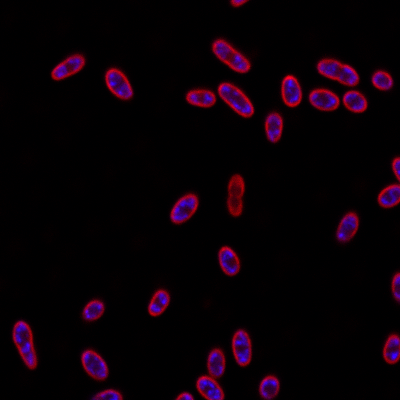MP265: (209, 38, 251, 74), (11, 319, 39, 371), (218, 81, 255, 119), (315, 57, 361, 87), (49, 52, 86, 81), (168, 192, 199, 224), (104, 67, 133, 101), (80, 348, 110, 379), (307, 87, 341, 113), (216, 245, 241, 278), (231, 329, 252, 367), (280, 74, 303, 108), (147, 287, 171, 317), (206, 346, 227, 380), (196, 374, 224, 399), (342, 89, 368, 114), (185, 88, 216, 108), (370, 69, 392, 91)
Oblique: (334, 210, 361, 244), (264, 109, 286, 144), (81, 299, 107, 323)
